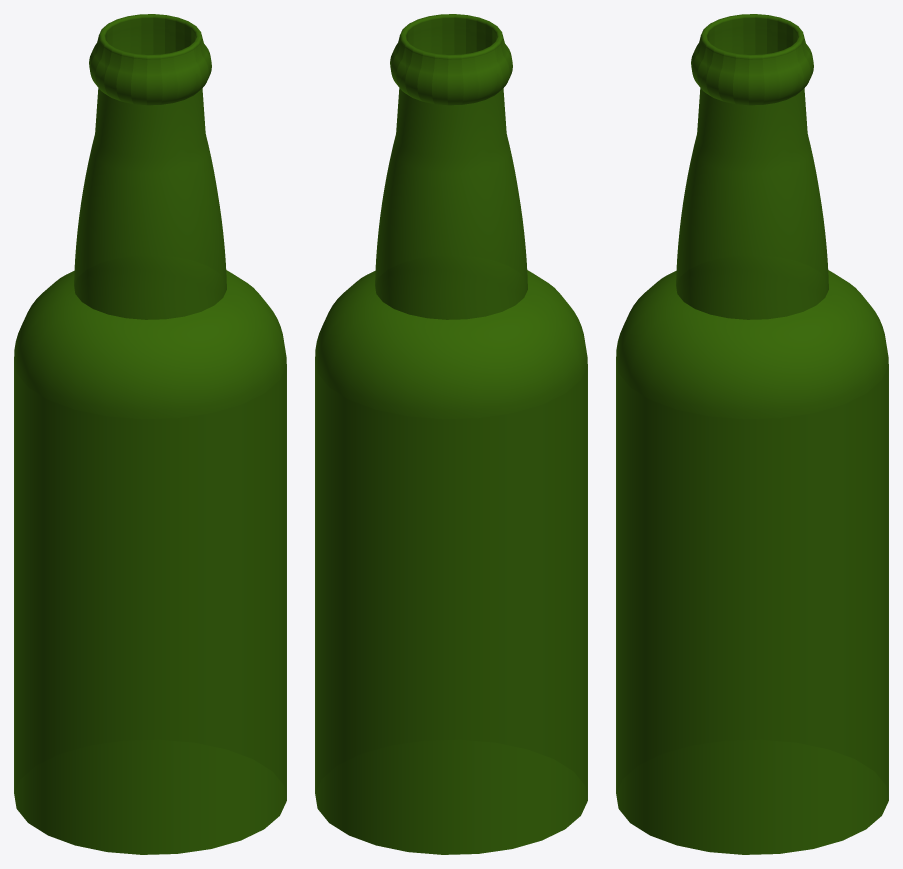
3 views of the same model, side by side, from view 1: azimuth 30°, elevation 25°; view 2: azimuth 150°, elevation 25°; view 3: azimuth 270°, elevation 25° (orthographic).
Visible parts, largest first — view 1: mesh1-geometry-0; view 2: mesh1-geometry-0; view 3: mesh1-geometry-0.
Boxes of the visible parts, bbox=[...] form: mesh1-geometry-0: bbox=[14, 14, 286, 854]; mesh1-geometry-0: bbox=[315, 14, 587, 854]; mesh1-geometry-0: bbox=[616, 14, 888, 854].
Bounding box in the file's own units: 0.2947 × 0.909 × 0.2947.
